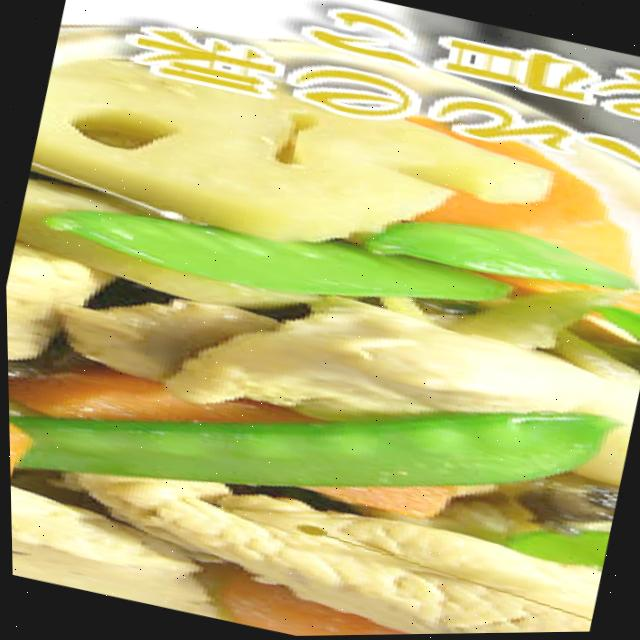鸡肉料理 含炸鸡: (1, 62, 640, 640)
